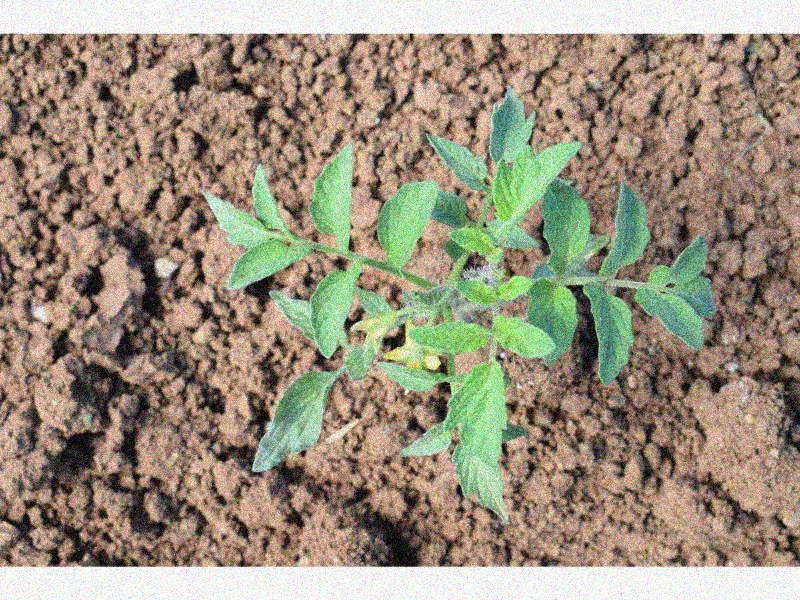tomato: (201, 84, 713, 520)
